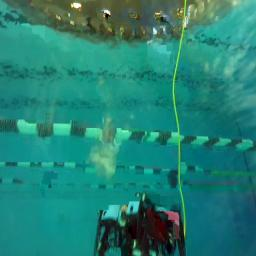front: (93, 191, 187, 256)
